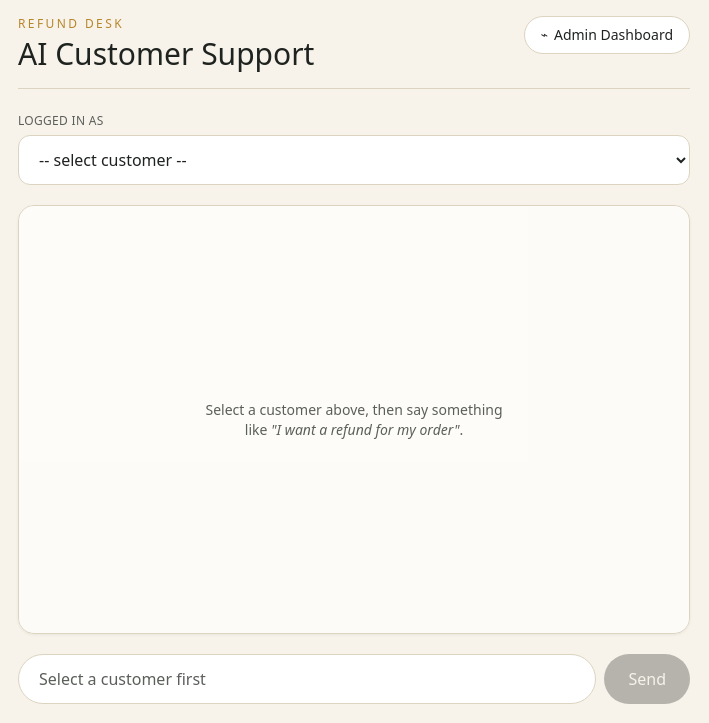
Scenario: ChatPage › shows a fallback message if the chat request fails outright
Select "Rohan Verma — Running Shoes - Size 9 (ORD-1002)" in the dropdown: (354, 160) [18,135,690,185]
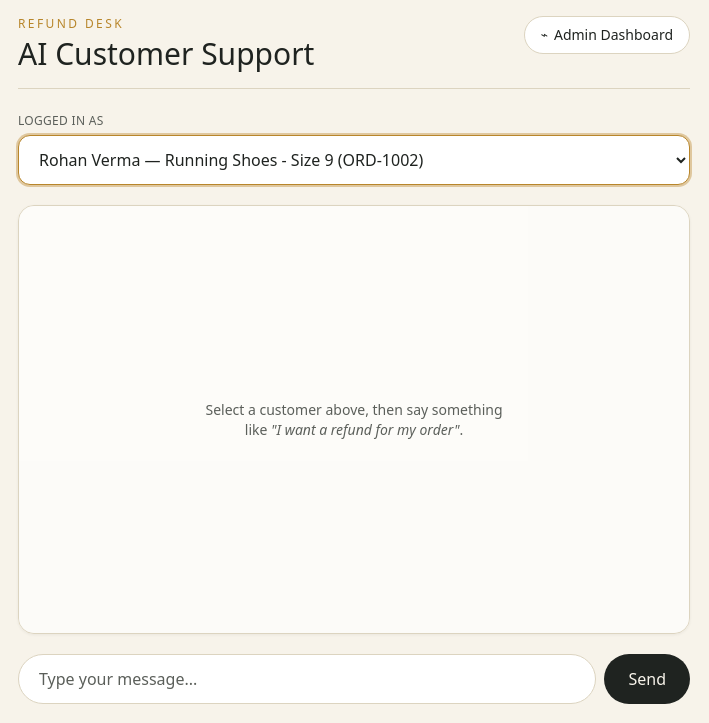
In the field with placeholder "Type your message...": (307, 679) [18,654,596,704], type "hello"
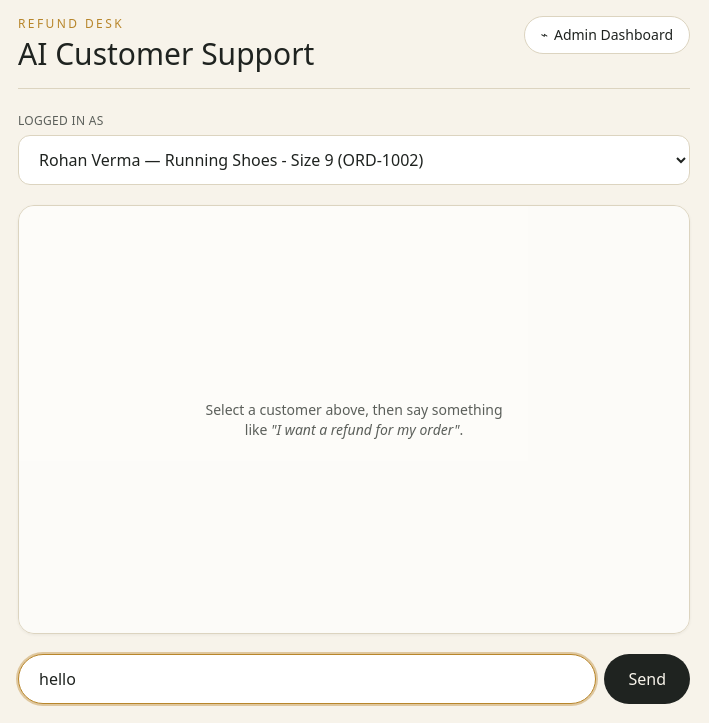
Click the button "Send": click(647, 679) [604,654,690,704]
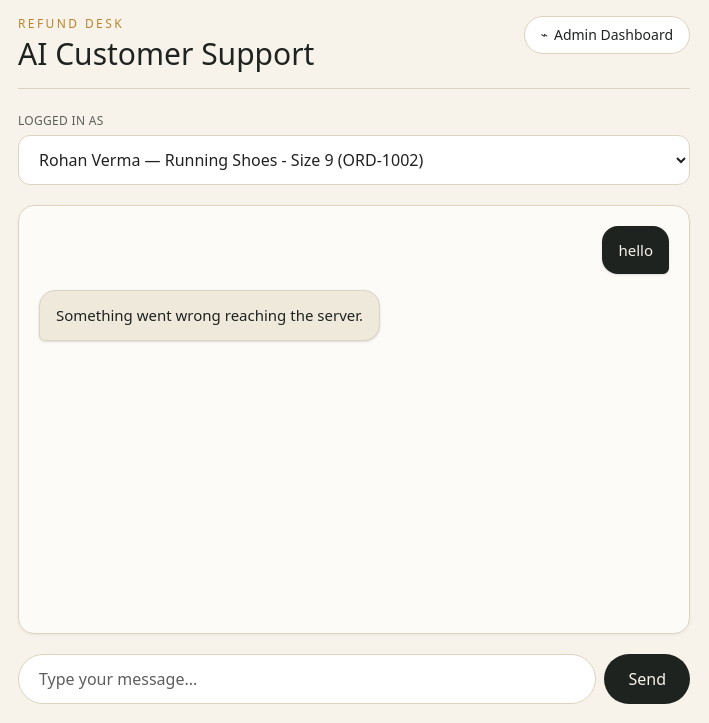
Check: the text "Something went wrong reaching the server." is shown, box [39,290,380,341]
